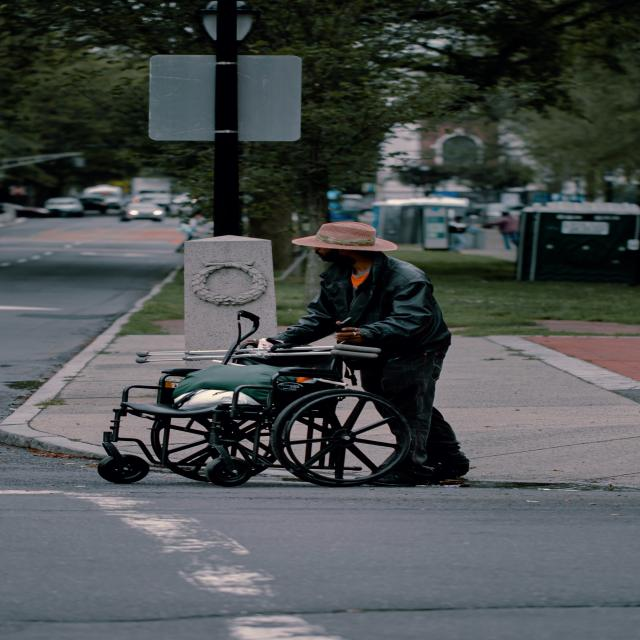wheelchairs: (96, 339, 410, 488)
